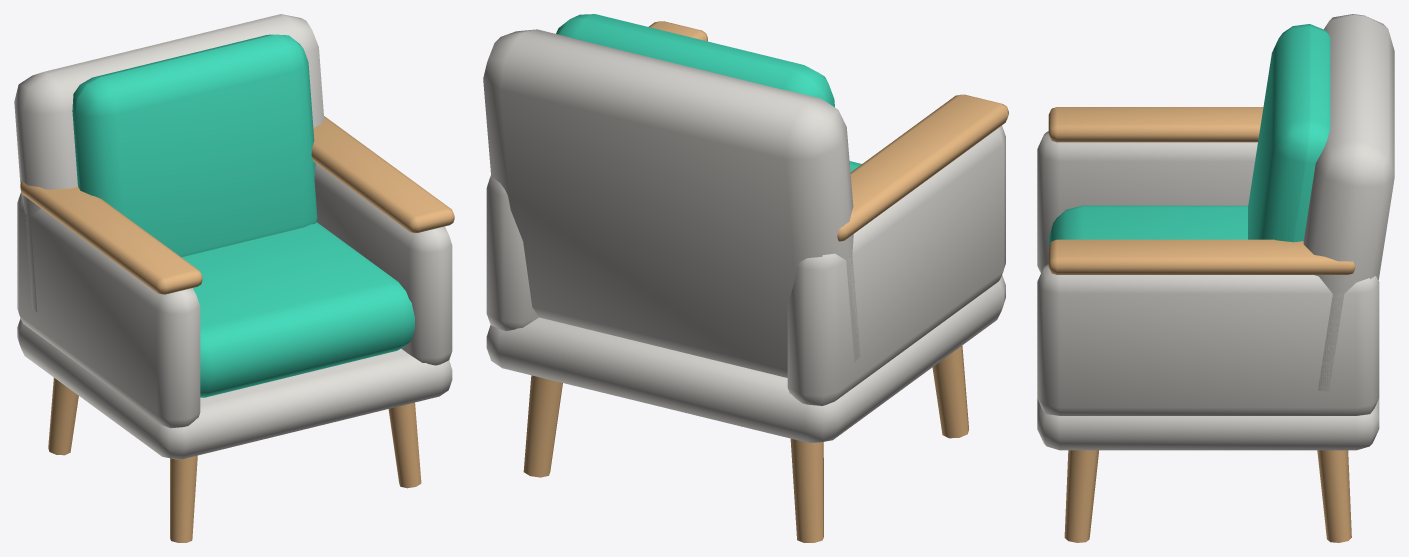
Rendered from waiting_chair.glb.
The picture shows the model from 3 angles, left to right: view 1: azimuth 30°, elevation 25°; view 2: azimuth 150°, elevation 25°; view 3: azimuth 270°, elevation 25°; orthographic projection. The views are drawn at different scales.
Visible parts, largest first — view 1: WaitingChair; view 2: WaitingChair; view 3: WaitingChair.
Part boxes in pixels (bbox=[...]): WaitingChair: bbox=[14, 14, 454, 542]; WaitingChair: bbox=[483, 14, 1008, 542]; WaitingChair: bbox=[1037, 14, 1394, 542].
Bounding box in the file's own units: 0.65 × 0.7864 × 0.6272.
